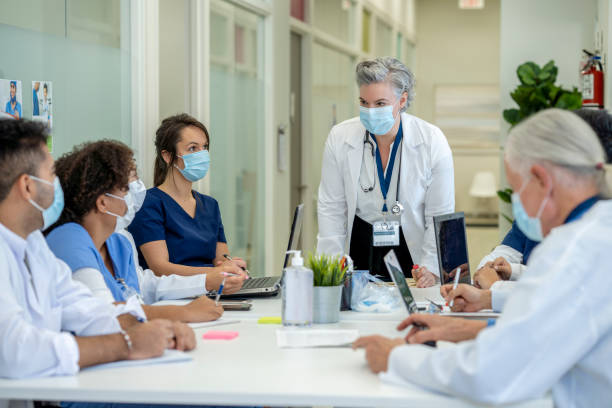with mask: (496, 110, 593, 243), (1, 119, 66, 232), (162, 115, 216, 184), (356, 67, 410, 136), (80, 167, 134, 236), (123, 142, 152, 215)
